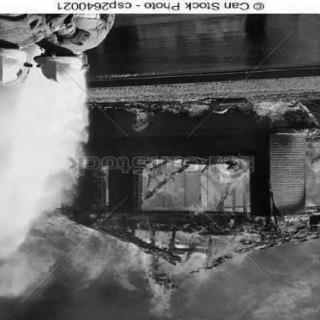Fire: (34, 99, 318, 319)
